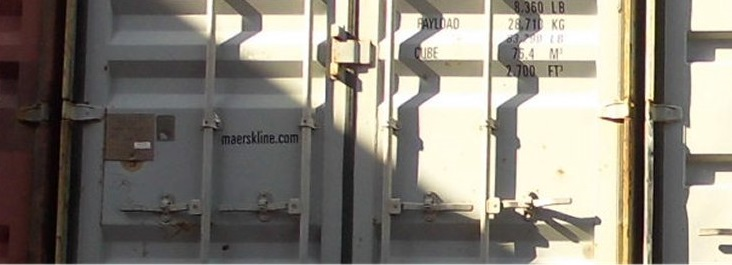container_door: (61, 3, 639, 265)
